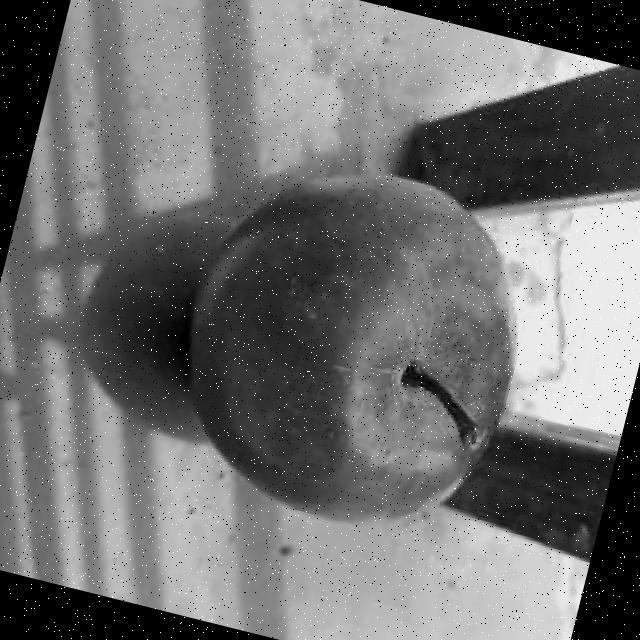Ripe: (140, 128, 560, 562)
